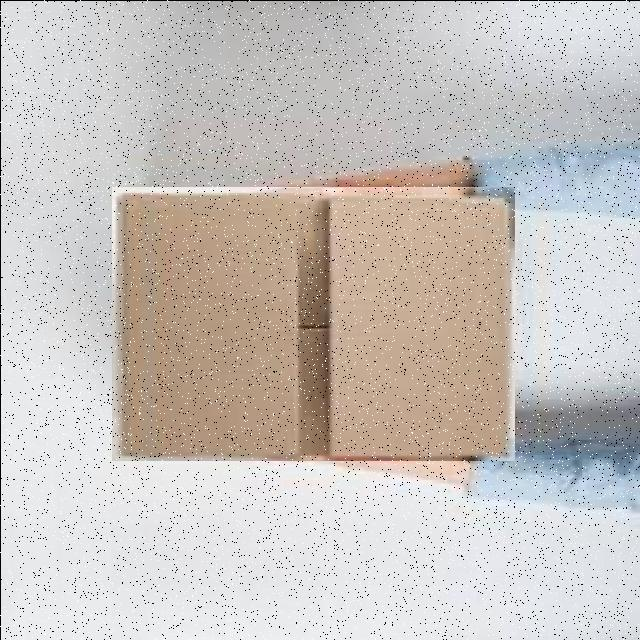defect: (111, 186, 514, 460)
